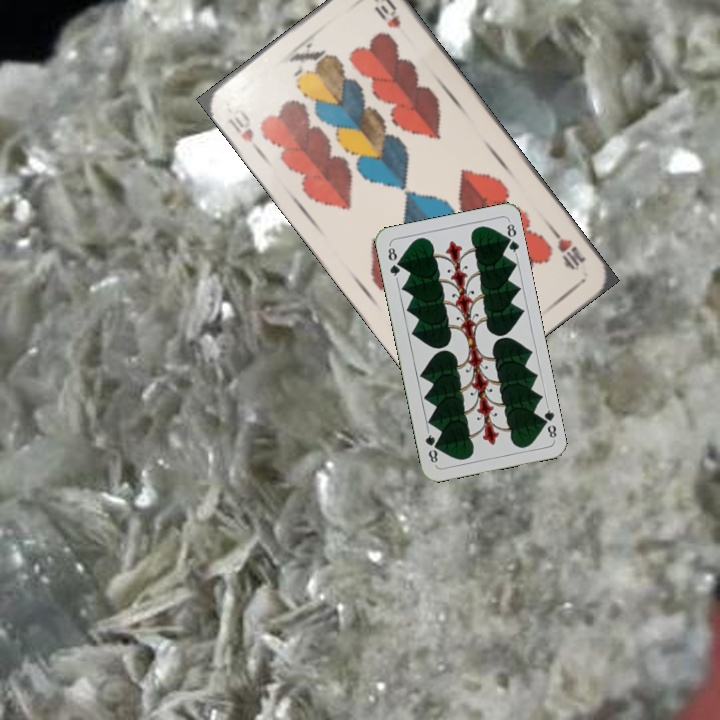G8: (537, 402, 559, 440), (384, 241, 403, 282)
H10: (224, 105, 265, 156), (547, 224, 589, 273)
